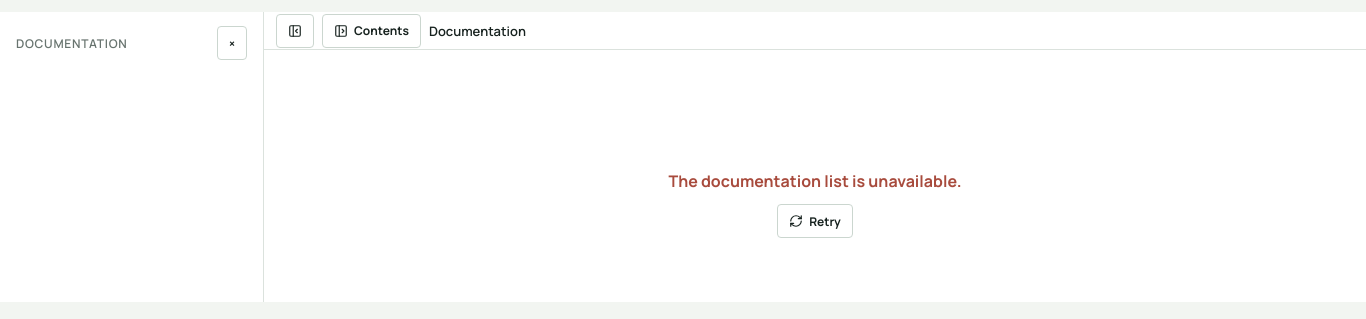
DocumentationPage list › shows the load failure state and retries
The width and height of the screenshot is (1366, 319).
What coordinates should you click on to do the following:
click the button "Retry"
I would click on:
 (815, 221)
Its box is [777,204,853,238].
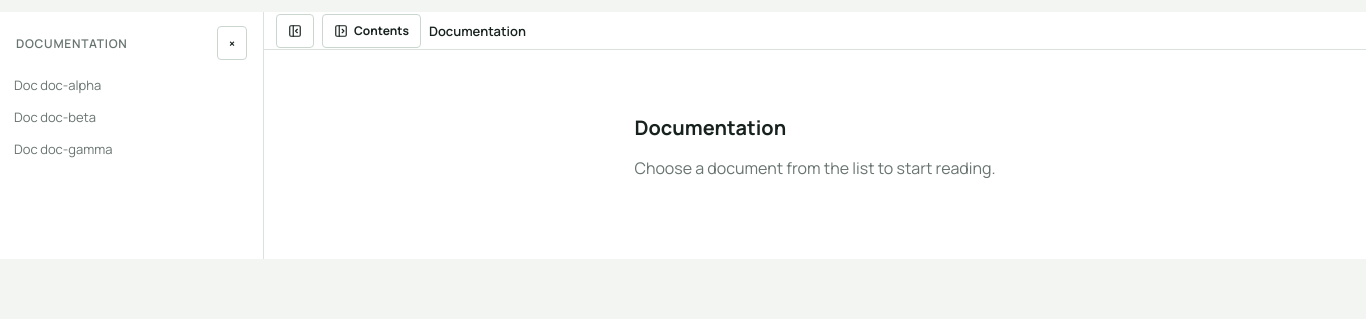
Now the text "Choose a document from the list to start reading." is shown, box [634,157,996,179]
